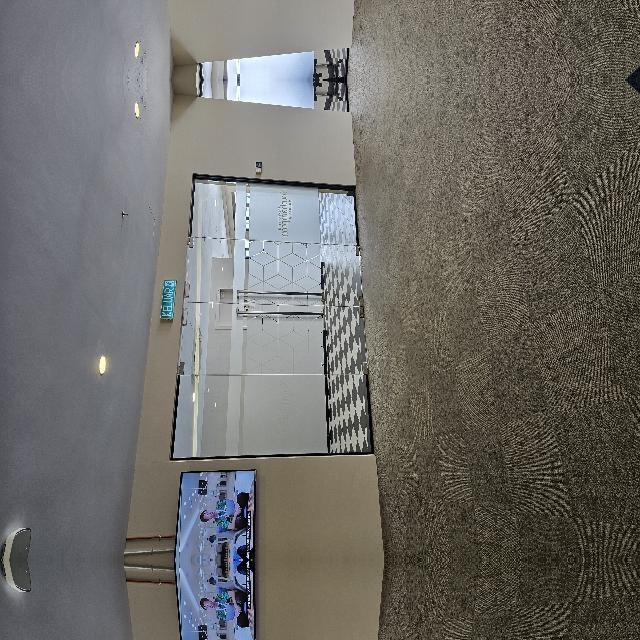door: (183, 260, 325, 444)
